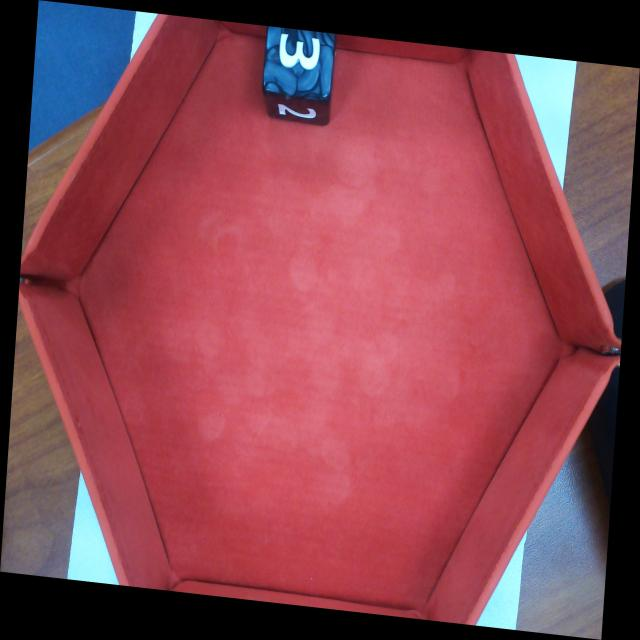dice: (263, 25, 335, 95)
